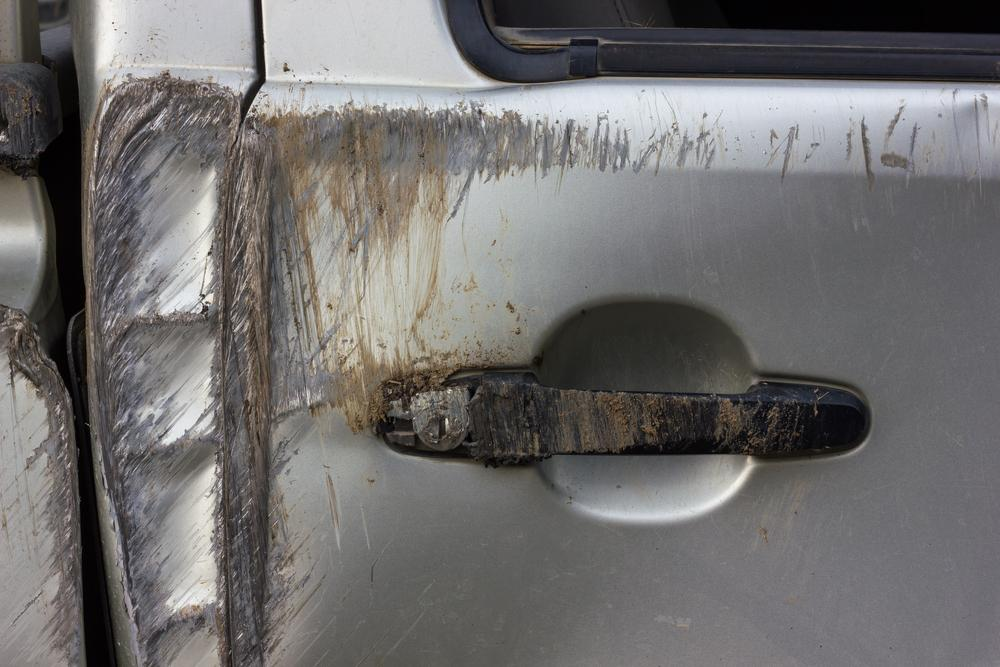dent: (90, 93, 224, 633)
scratch: (80, 73, 1000, 667), (0, 302, 88, 667)
